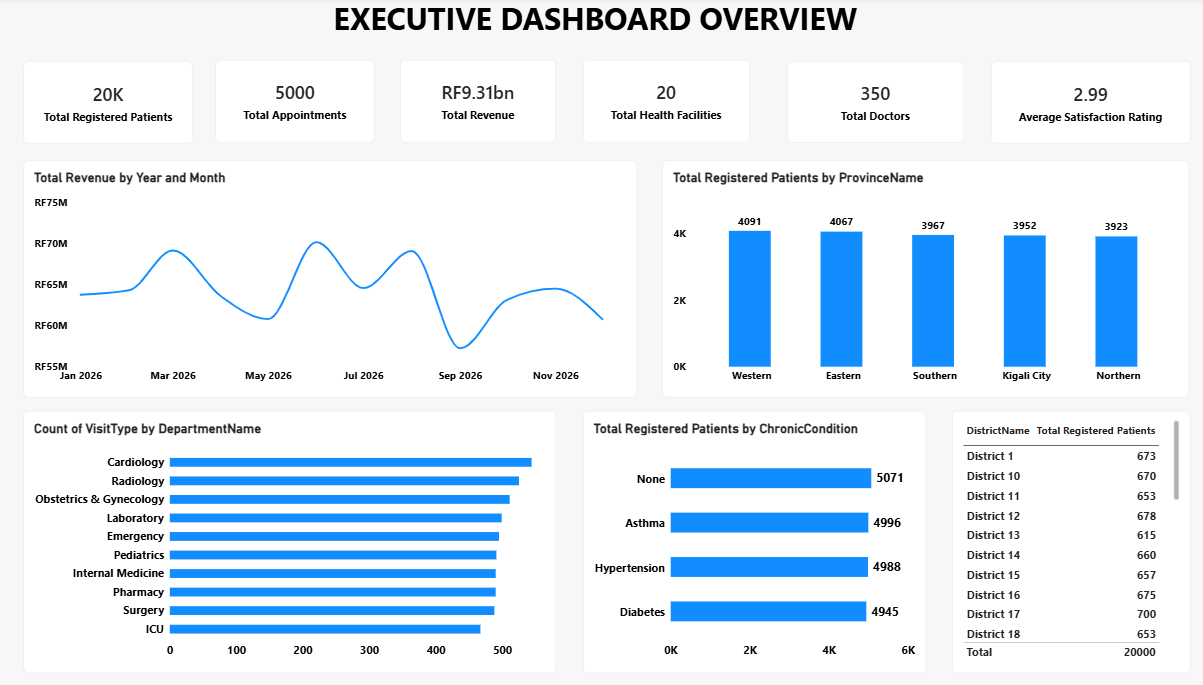

Layout of this report page (visuals, bound fields, positions):
{"tool":"powerbi","page":{"name":"Executive Dashboard","canvas":[1920,1080],"ordinal":0},"visuals":[{"type":"textbox","box":[186,0,1530.6,96.5],"z":0},{"type":"card","fields":{"Values":["Pateints_KPIs.Total Registered Patients"]},"box":[54.2,101.3,266.1,129.5],"z":1000},{"type":"card","fields":{"Values":["Financial_KPIs.Total Revenue"]},"box":[645.2,98.9,244.9,129.5],"z":2000},{"type":"card","fields":{"Values":["Operational_KPIs.Number of Health Facilities"]},"box":[932.5,98.9,261.4,129.5],"z":3000},{"type":"card","fields":{"Values":["Healthcare_KPIs.Total Doctors"]},"box":[1252.9,102,277.9,127.2],"z":4000},{"type":"card","fields":{"Values":["Appointments_KPIs.Total Appointments"]},"box":[355.6,98.9,249.6,129.5],"z":5000},{"type":"card","fields":{"Values":["Patient_Experience_KPIs.Average Satisfaction Rating"]},"box":[1573.2,102,313.2,129.5],"z":6000},{"type":"lineChart","fields":{"Category":["Dim_Calendar.Date.Variation.Date Hierarchy.Year","Dim_Calendar.Date.Variation.Date Hierarchy.Month"],"Y":["Financial_KPIs.Total Revenue"]},"box":[54.2,256.7,963.1,372],"z":7000},{"type":"clusteredColumnChart","fields":{"Category":["HC_Provinces.ProvinceName"],"Y":["Pateints_KPIs.Total Registered Patients"]},"box":[1057.3,256.7,826.5,372],"z":8000},{"type":"clusteredBarChart","fields":{"Category":["HC_Departments.DepartmentName"],"Y":["CountNonNull(Fact_Appointments.VisitType)"]},"box":[53.9,649.1,836.2,411],"z":9000},{"type":"clusteredBarChart","fields":{"Category":["HC_Patients.ChronicCondition"],"Y":["Pateints_KPIs.Total Registered Patients"]},"box":[932.6,649.1,538.6,411],"z":10000},{"type":"tableEx","fields":{"Values":["HC_Districts.DistrictName","Pateints_KPIs.Total Registered Patients"]},"box":[1510.9,649.1,374.2,411],"z":11000}]}

Visuals, with their boxes in screenshot pixels (x1, y1, x2, y2), scaled from the page's 1920x1080 canvas onto the 1203x685 screenshot:
textbox: crop(117, 0, 1076, 61)
card - Pateints_KPIs.Total Registered Patients: crop(34, 64, 201, 146)
card - Financial_KPIs.Total Revenue: crop(404, 63, 558, 145)
card - Operational_KPIs.Number of Health Facilities: crop(584, 63, 748, 145)
card - Healthcare_KPIs.Total Doctors: crop(785, 65, 959, 145)
card - Appointments_KPIs.Total Appointments: crop(223, 63, 379, 145)
card - Patient_Experience_KPIs.Average Satisfaction Rating: crop(986, 65, 1182, 147)
lineChart - Dim_Calendar.Date.Variation.Date Hierarchy.Year x Dim_Calendar.Date.Variation.Date Hierarchy.Month: crop(34, 163, 637, 399)
clusteredColumnChart - HC_Provinces.ProvinceName x Pateints_KPIs.Total Registered Patients: crop(662, 163, 1180, 399)
clusteredBarChart - HC_Departments.DepartmentName x CountNonNull(Fact_Appointments.VisitType): crop(34, 412, 558, 672)
clusteredBarChart - HC_Patients.ChronicCondition x Pateints_KPIs.Total Registered Patients: crop(584, 412, 922, 672)
tableEx - HC_Districts.DistrictName x Pateints_KPIs.Total Registered Patients: crop(947, 412, 1181, 672)
